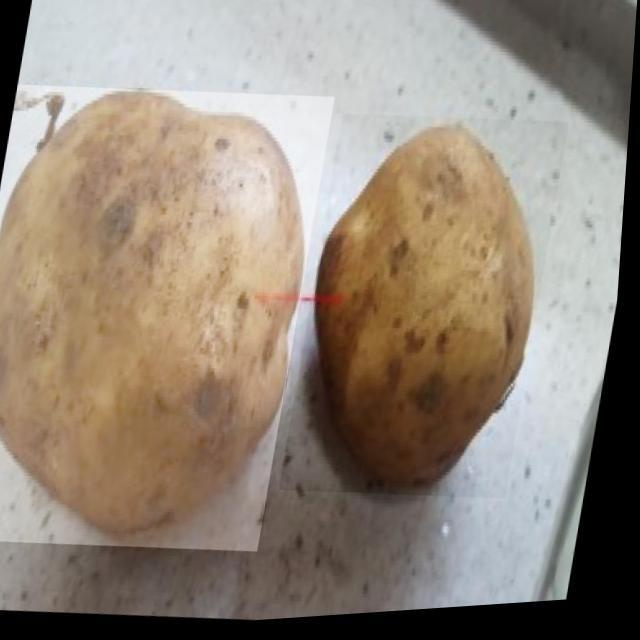Potato: (0, 67, 338, 570), (284, 106, 572, 518)
